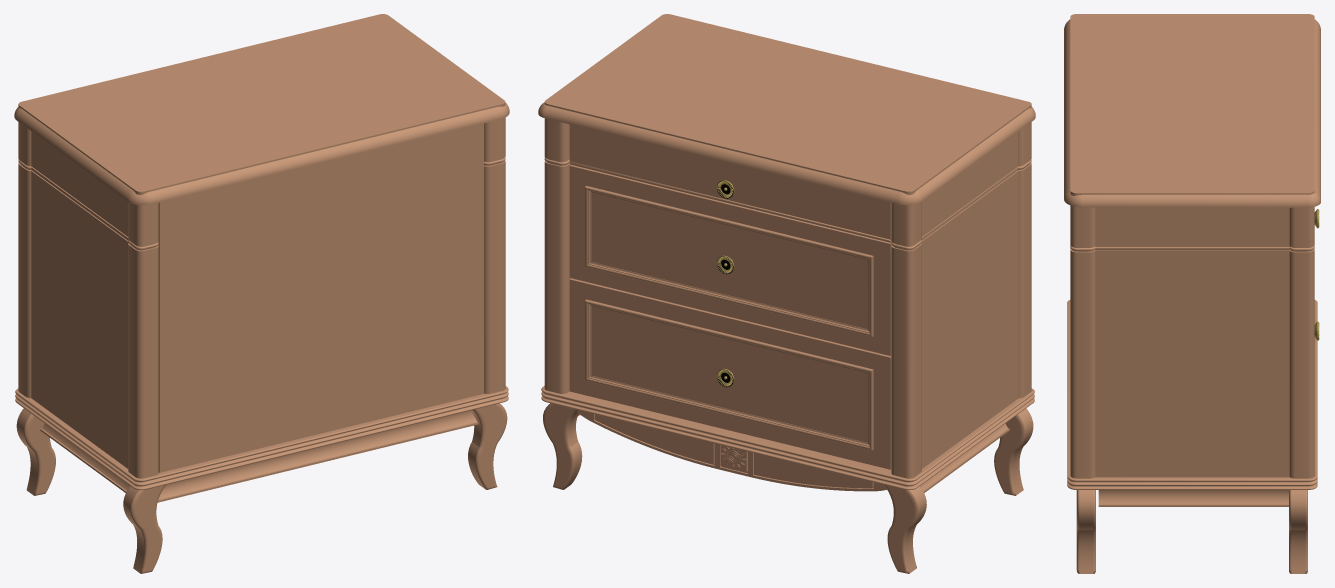
Rendered from mesa-de-cabeceira-viognier.glb.
3 renders of one model, left to right at view 1: azimuth 30°, elevation 25°; view 2: azimuth 150°, elevation 25°; view 3: azimuth 270°, elevation 25°, orthographic.
Visible parts, largest first — view 1: Criado Siciliano, object 8, object 7, object 6; view 2: Criado Siciliano, object 6, object 5, object 8; view 3: Criado Siciliano, object 7, object 5.
Part boxes in pixels (x1=…): Criado Siciliano: x1=14, y1=14, x2=509, y2=573; object 8: x1=128, y1=202, x2=158, y2=478; object 7: x1=484, y1=117, x2=505, y2=393; object 6: x1=18, y1=122, x2=31, y2=398; Criado Siciliano: x1=538, y1=14, x2=1035, y2=573; object 6: x1=891, y1=202, x2=921, y2=478; object 5: x1=544, y1=118, x2=570, y2=393; object 8: x1=1017, y1=122, x2=1031, y2=398; Criado Siciliano: x1=1064, y1=14, x2=1320, y2=573; object 7: x1=1070, y1=205, x2=1095, y2=478; object 5: x1=1289, y1=207, x2=1314, y2=478.
Size of the model in its own units: 0.68 by 0.66 by 0.4.
